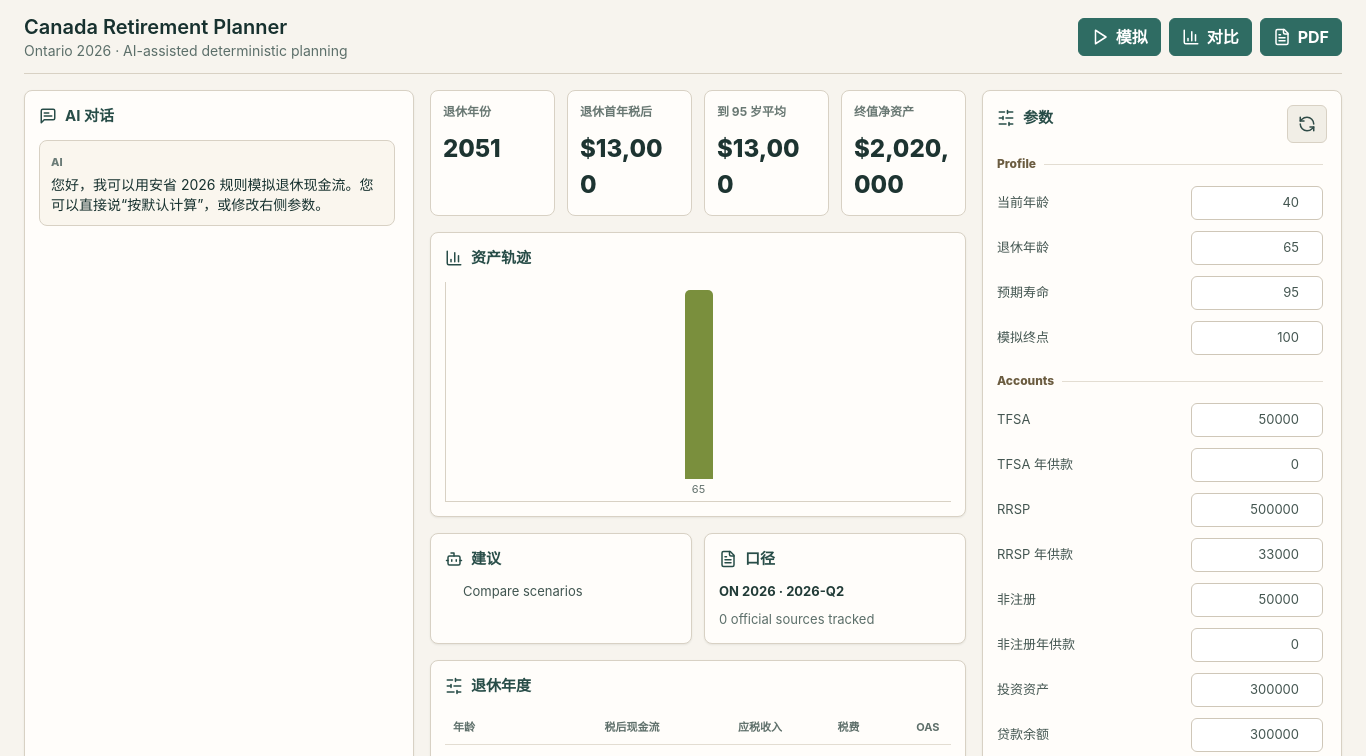
Test: App › runs comparison from the toolbar
This screenshot has width=1366, height=756.
Expected: the text "2051" is shown, [443,134,501,163]
Click the button "对比". click: (1210,37)
box: [1169,18,1252,56]
(page scrolled)
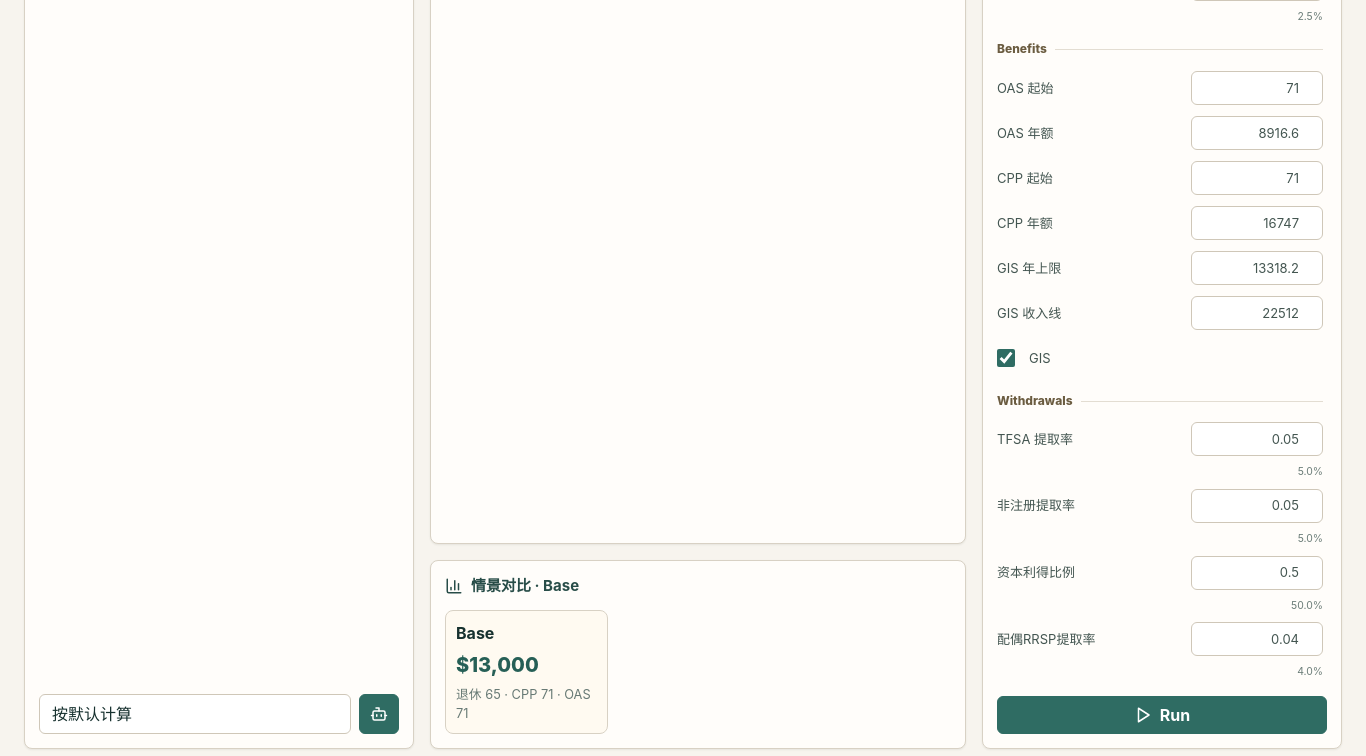
Now the heading "情景对比 · Base" is shown, box [471,575,579,598]
